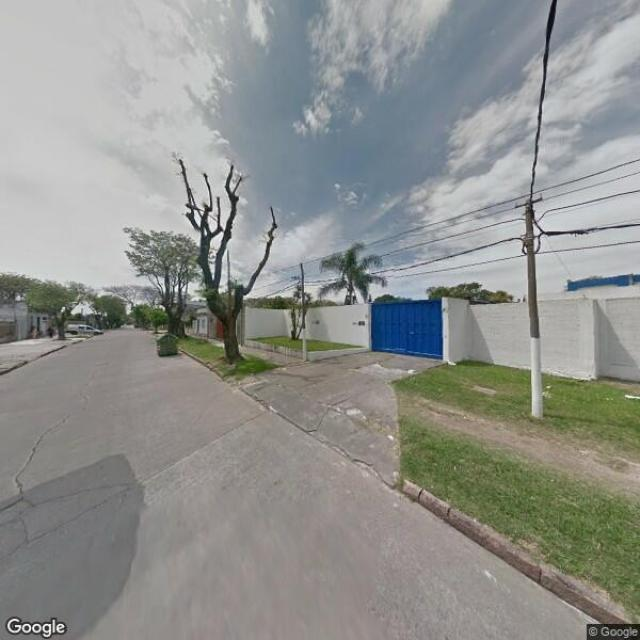garbage container: (152, 328, 184, 362)
